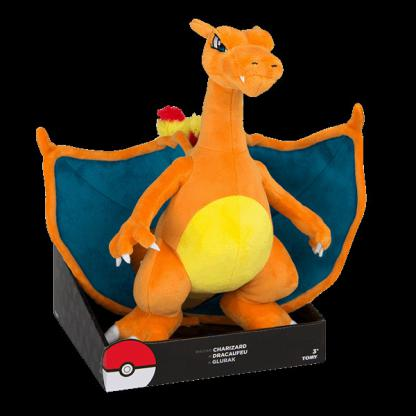Charizard: (25, 16, 389, 322)
